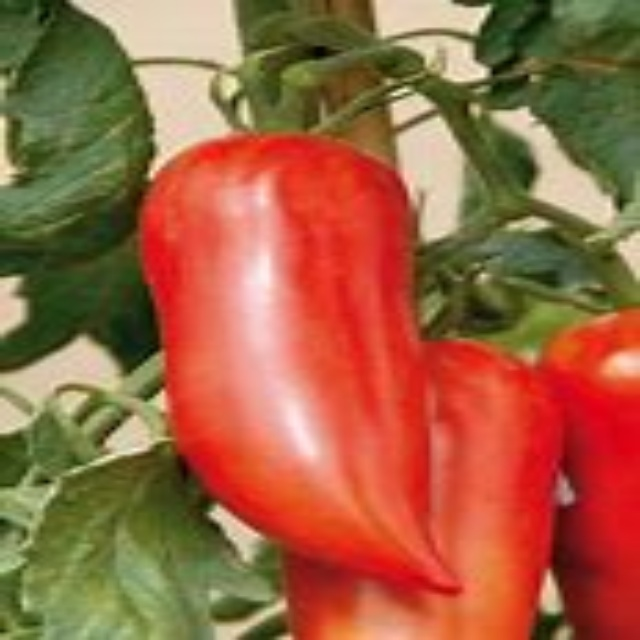tomato: (141, 141, 447, 590), (280, 339, 547, 635)
